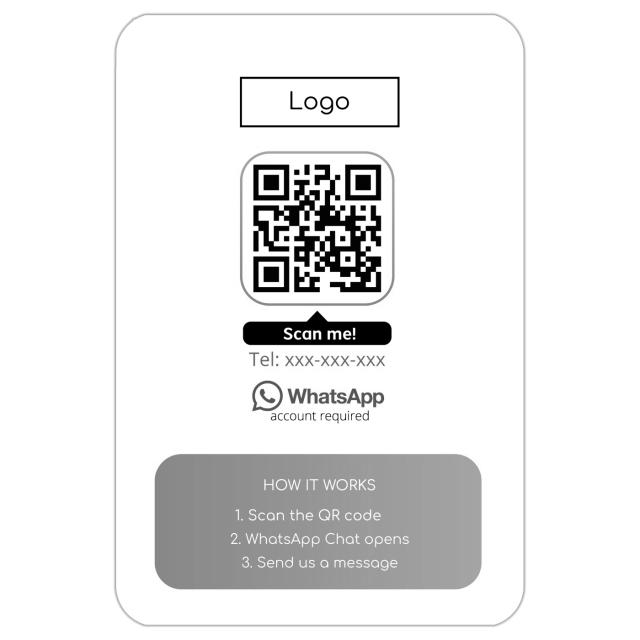QR-codes: (251, 161, 384, 295)
